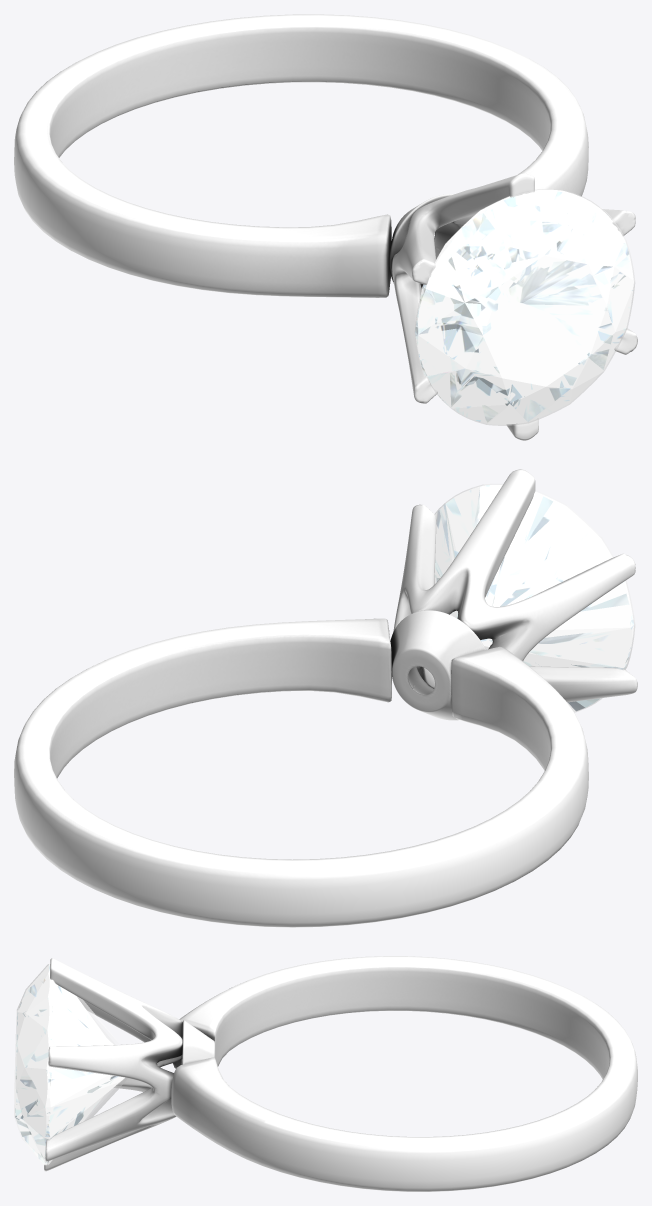
The model's file is RingTransformed.glb.
3 renders of one model, top to bottom at view 1: azimuth 30°, elevation 25°; view 2: azimuth 150°, elevation 25°; view 3: azimuth 270°, elevation 25°, orthographic. The views are drawn at different scales.
Visible parts, largest first — view 1: Ring, Diamond, DiamondColor; view 2: Ring, Diamond, DiamondColor; view 3: Ring, Diamond, DiamondColor.
Boxes of the visible parts, x1,y1,x2,y2 form: Ring: (14,14,637,440); Diamond: (414,189,635,425); DiamondColor: (415,189,633,424); Ring: (14,469,637,927); Diamond: (434,483,635,712); DiamondColor: (434,485,633,711); Ring: (44,956,637,1191); Diamond: (14,964,127,1165); DiamondColor: (15,965,124,1164).
Bounding box in the file's own units: 0.1166 × 0.0588 × 0.1576.
Materials: 3 (1 with a texture image).
